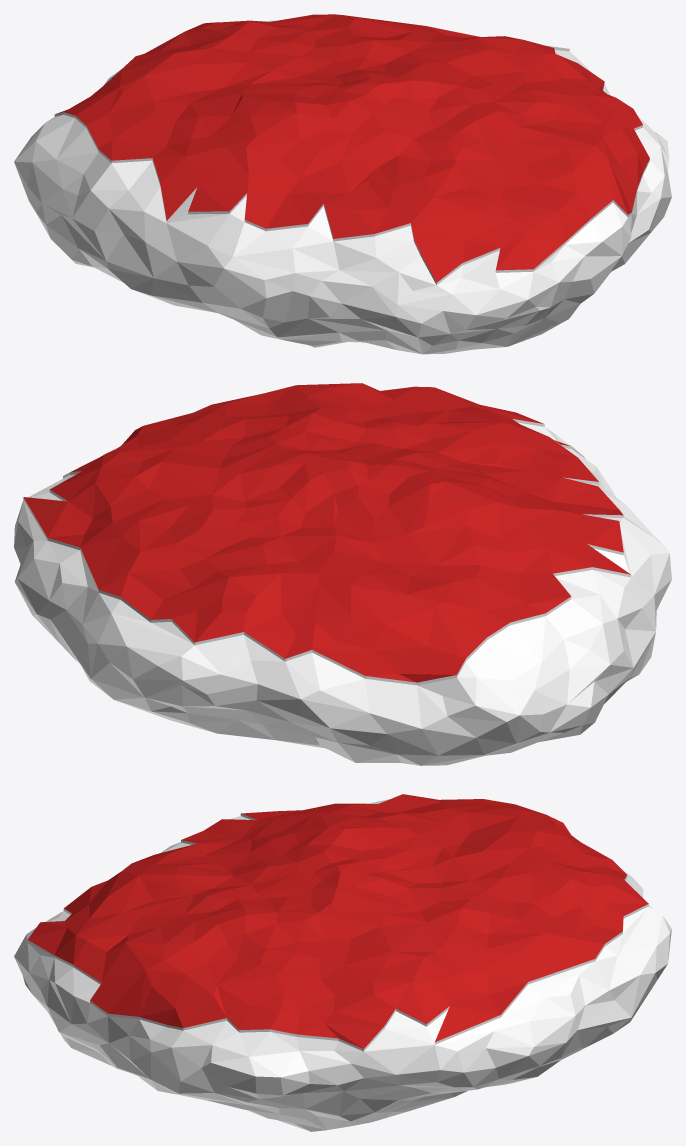
The model's file is MushroomIsland.obj.
The picture shows the model from 3 angles, top to bottom: view 1: azimuth 30°, elevation 25°; view 2: azimuth 150°, elevation 25°; view 3: azimuth 270°, elevation 25°; orthographic projection. The views are drawn at different scales.
Visible parts, largest first — view 1: MushroomIsland; view 2: MushroomIsland; view 3: MushroomIsland.
Part boxes in pixels (box(x1,y1,x2,y2)): MushroomIsland: box(14, 14, 671, 354); MushroomIsland: box(14, 383, 671, 765); MushroomIsland: box(14, 794, 671, 1131).
Bounding box in the file's own units: 7.81 × 3.14 × 8.41.
